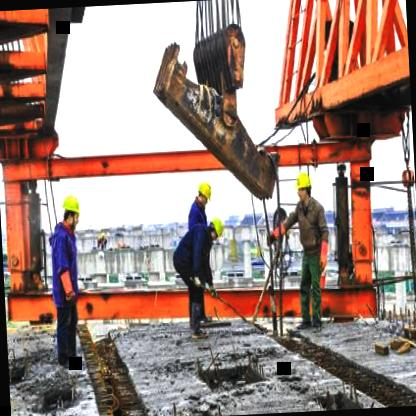helmet: (58, 189, 82, 232), (206, 211, 228, 242), (294, 169, 314, 202), (192, 180, 214, 206)
